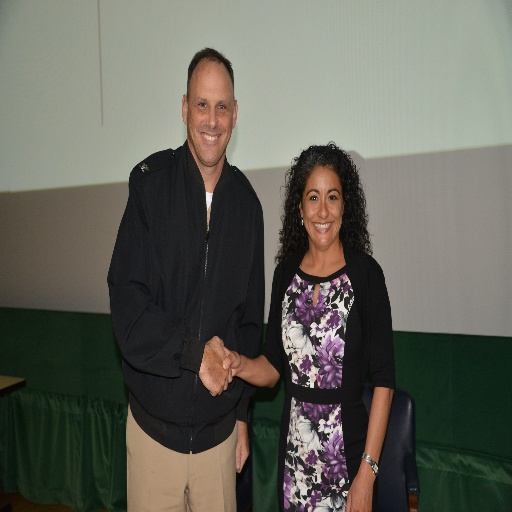hand: (198, 330, 231, 407), (345, 474, 372, 511), (221, 345, 244, 384), (234, 425, 250, 474)
